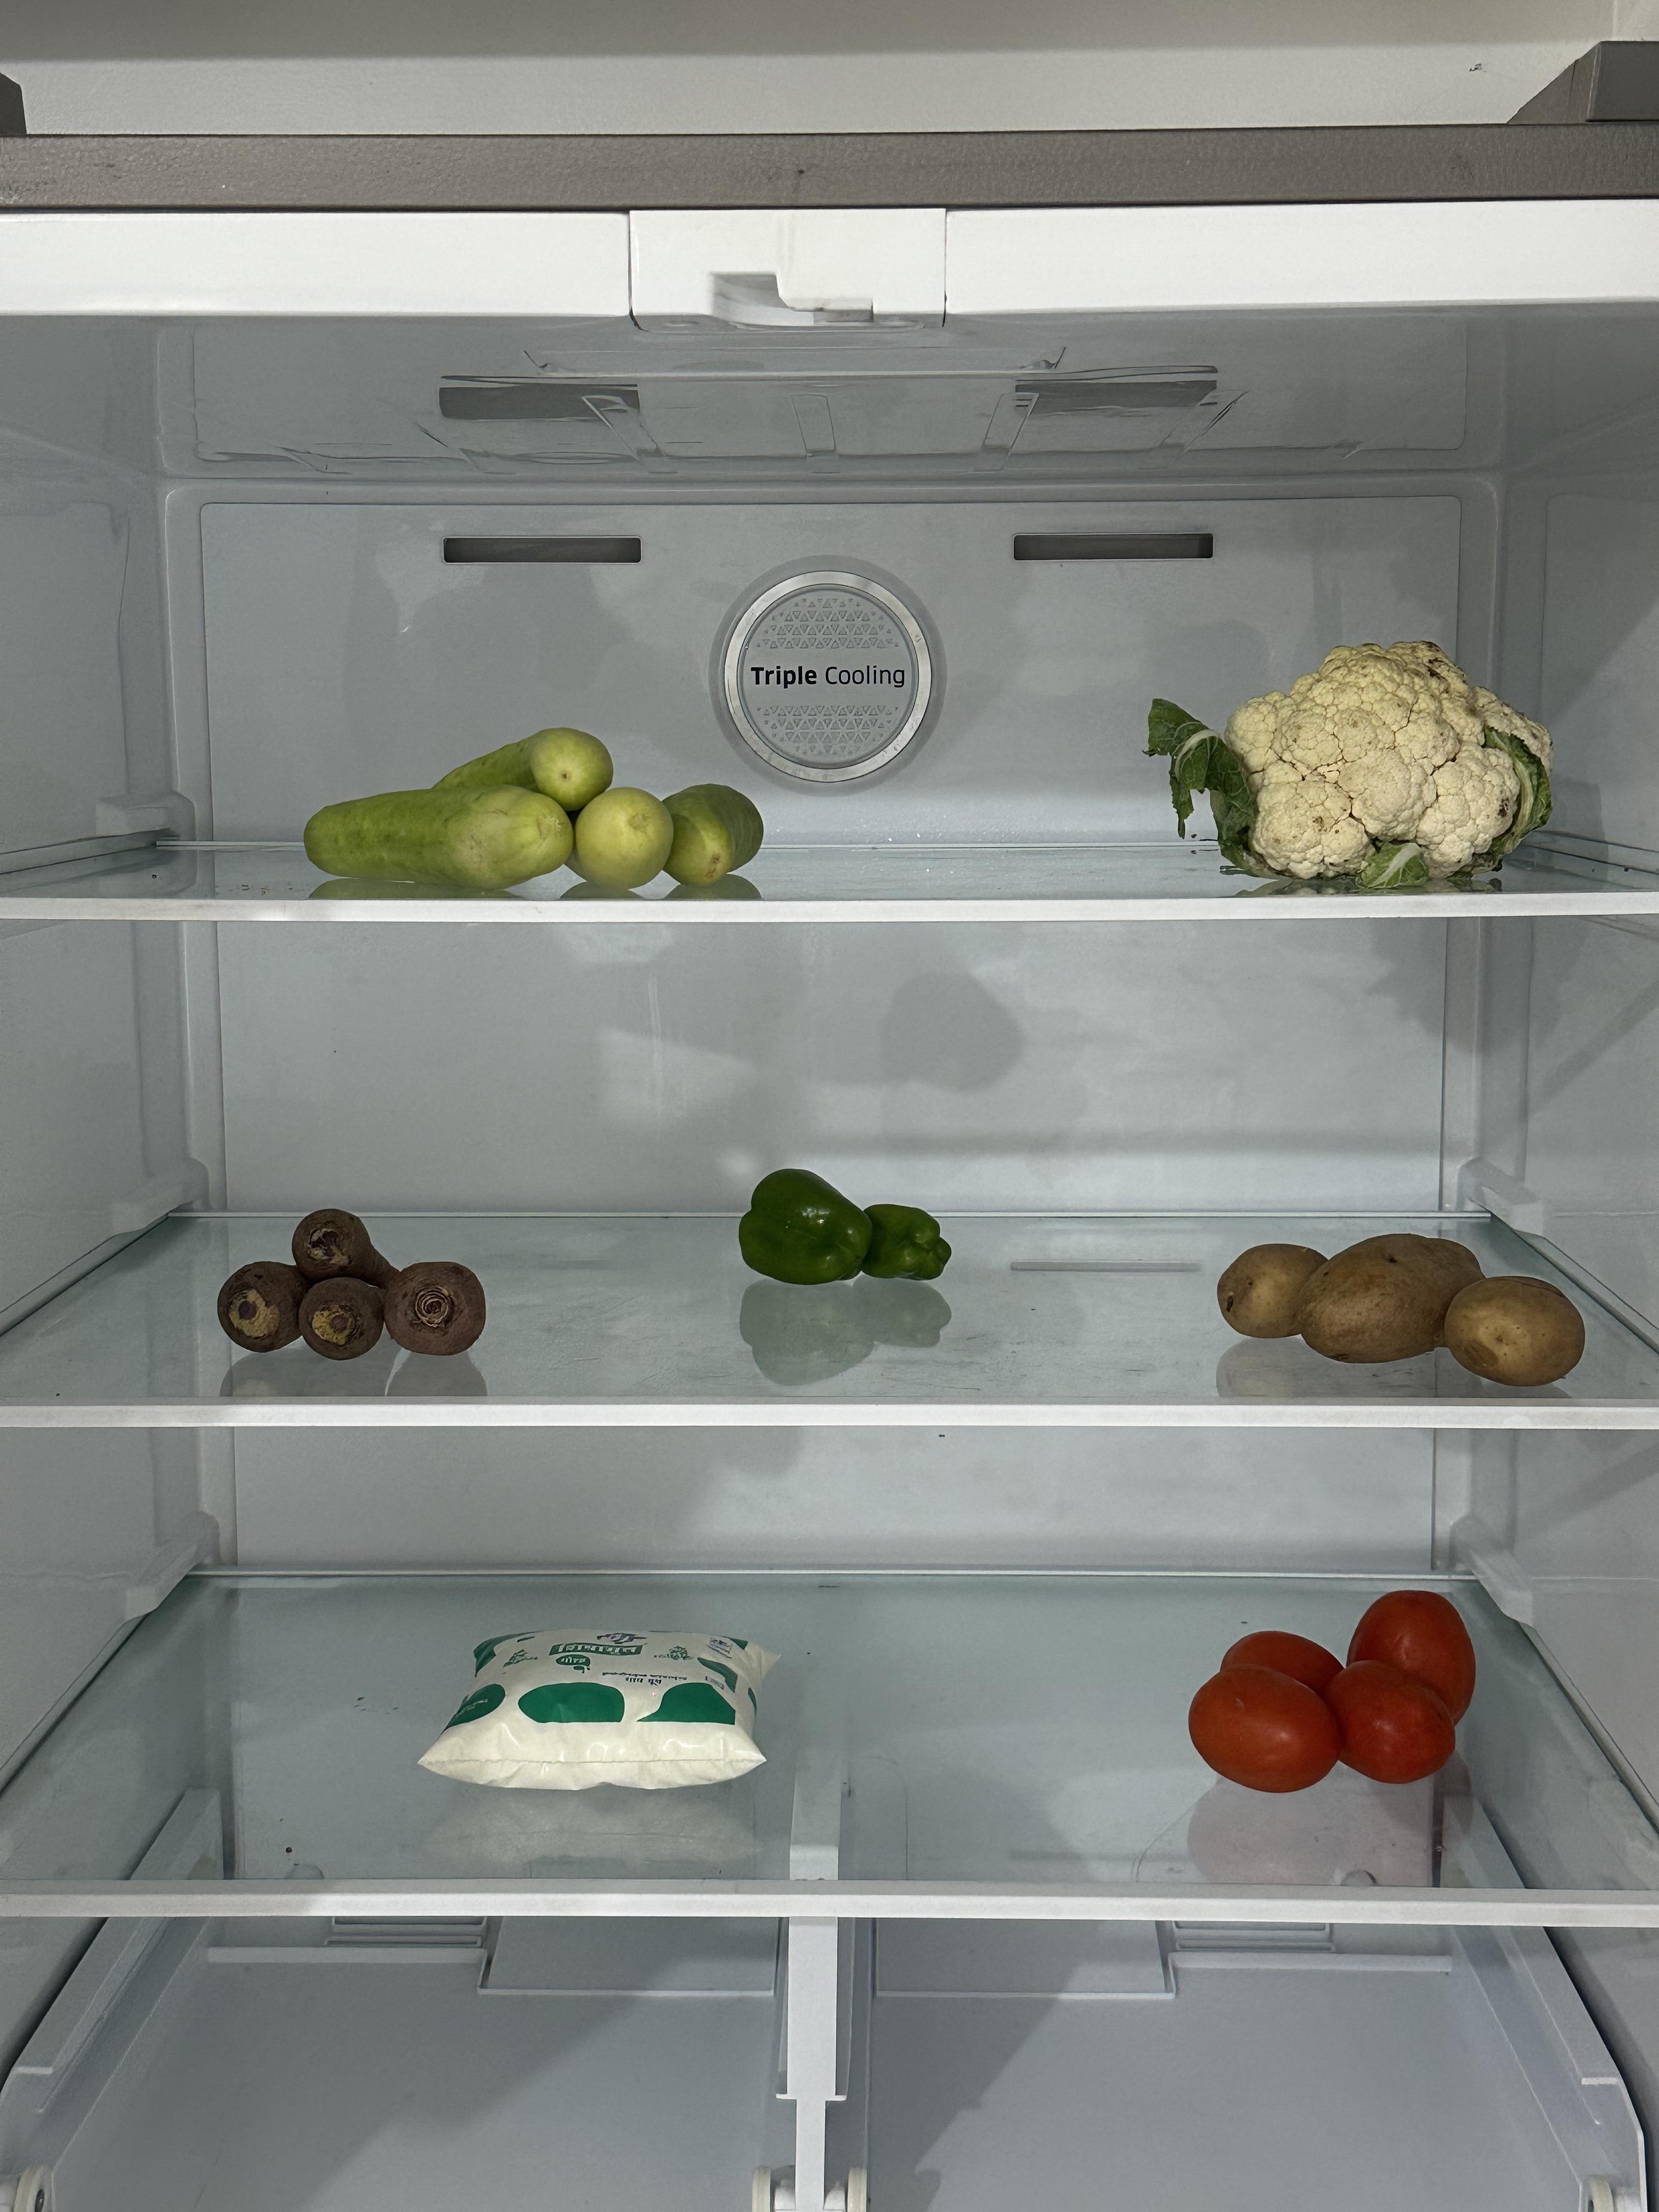capsicum: (734, 1160, 951, 1289)
carrots: (223, 1205, 483, 1364)
cauliflower: (1216, 634, 1558, 881)
cucumber: (301, 726, 774, 890)
milk: (413, 1627, 784, 1796)
potato: (1220, 1231, 1589, 1388)
tomato: (1175, 1585, 1480, 1789)
